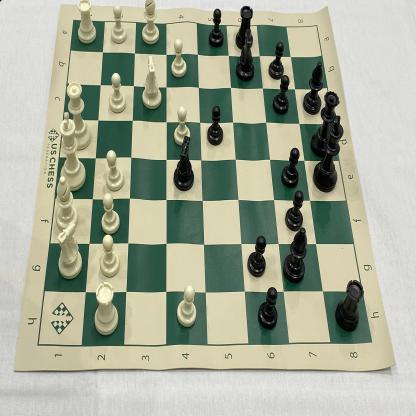black-bishop: (283, 226, 307, 284), (304, 60, 322, 115)
black-king: (313, 114, 344, 191)
black-knight: (171, 135, 196, 193), (236, 27, 255, 82)
black-pawn: (256, 287, 278, 331), (246, 236, 268, 279), (279, 146, 300, 190), (283, 192, 305, 232), (271, 76, 290, 115), (207, 104, 224, 147), (268, 41, 284, 82), (208, 8, 224, 48)
black-queen: (314, 90, 341, 151)
black-rook: (335, 279, 365, 333), (235, 2, 254, 50)
white-bishop: (53, 174, 79, 231), (141, 0, 161, 44)
white-king: (56, 112, 85, 191)
white-knight: (55, 220, 83, 279), (140, 54, 164, 111)
white-pawn: (175, 283, 197, 328), (103, 150, 125, 191), (100, 233, 120, 278), (101, 191, 120, 235), (108, 72, 126, 113), (110, 5, 128, 45), (173, 104, 190, 143), (171, 39, 187, 79)
white-queen: (64, 79, 92, 150)
white-rook: (93, 280, 119, 335), (75, 0, 98, 45)
